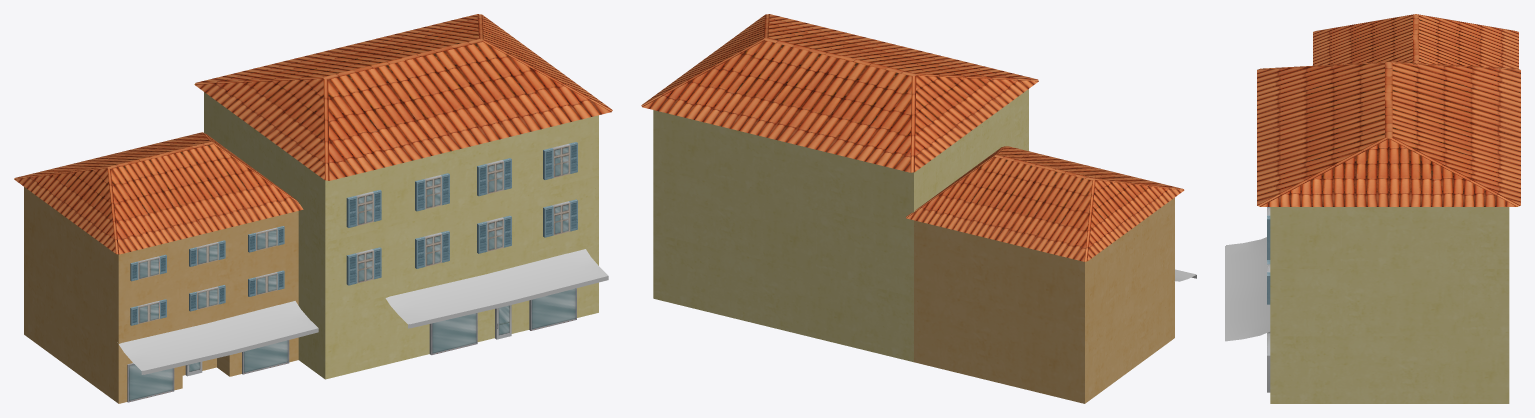
Rendered from Houses_02.FBX.
3 renders of one model, left to right at view 1: azimuth 30°, elevation 25°; view 2: azimuth 150°, elevation 25°; view 3: azimuth 270°, elevation 25°, orthographic. The views are drawn at different scales.
Visible parts, largest first — view 1: Houses_02; view 2: Houses_02; view 3: Houses_02.
Part boxes in pixels (x1=…): Houses_02: x1=14, y1=14, x2=612, y2=403; Houses_02: x1=641, y1=14, x2=1196, y2=403; Houses_02: x1=1225, y1=14, x2=1520, y2=403.
Bounding box in the file's own units: 29.86 × 16.57 × 14.77.
